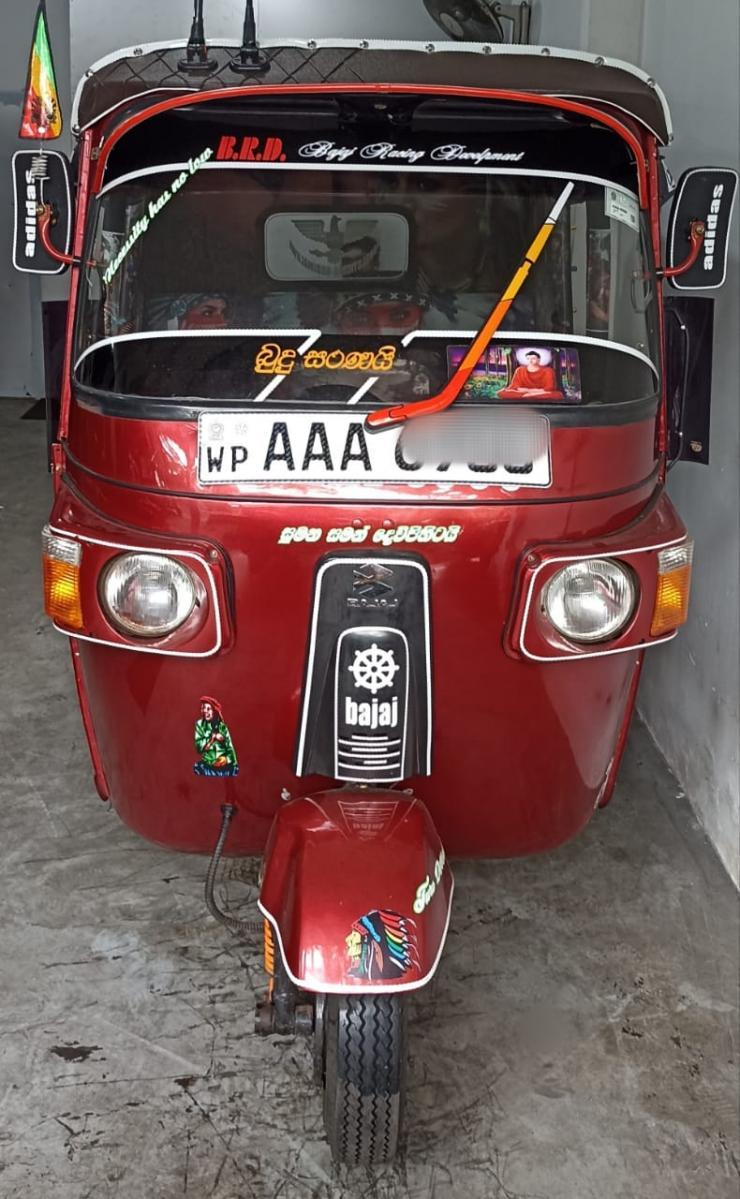threewheel: (10, 38, 740, 1169)
